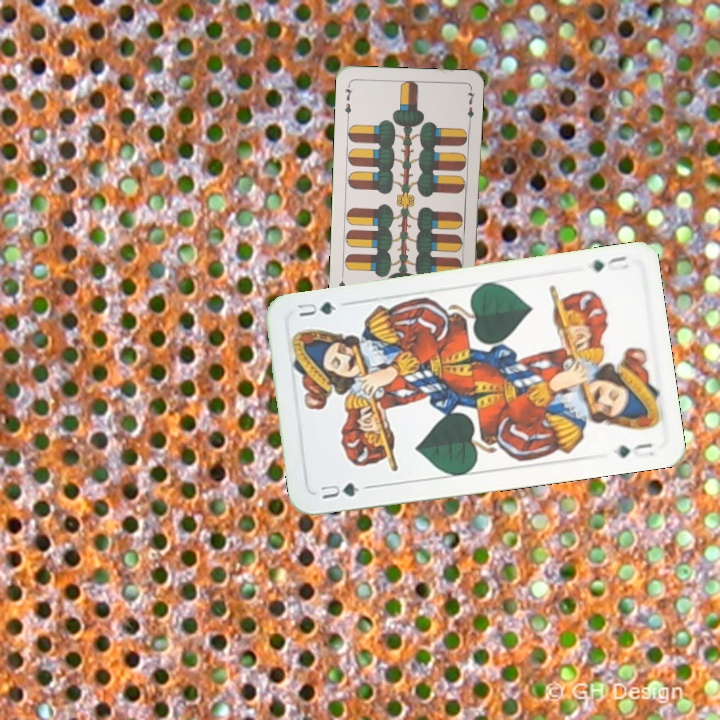E7: (341, 80, 355, 121)
GU: (315, 478, 362, 502), (589, 252, 631, 275)
